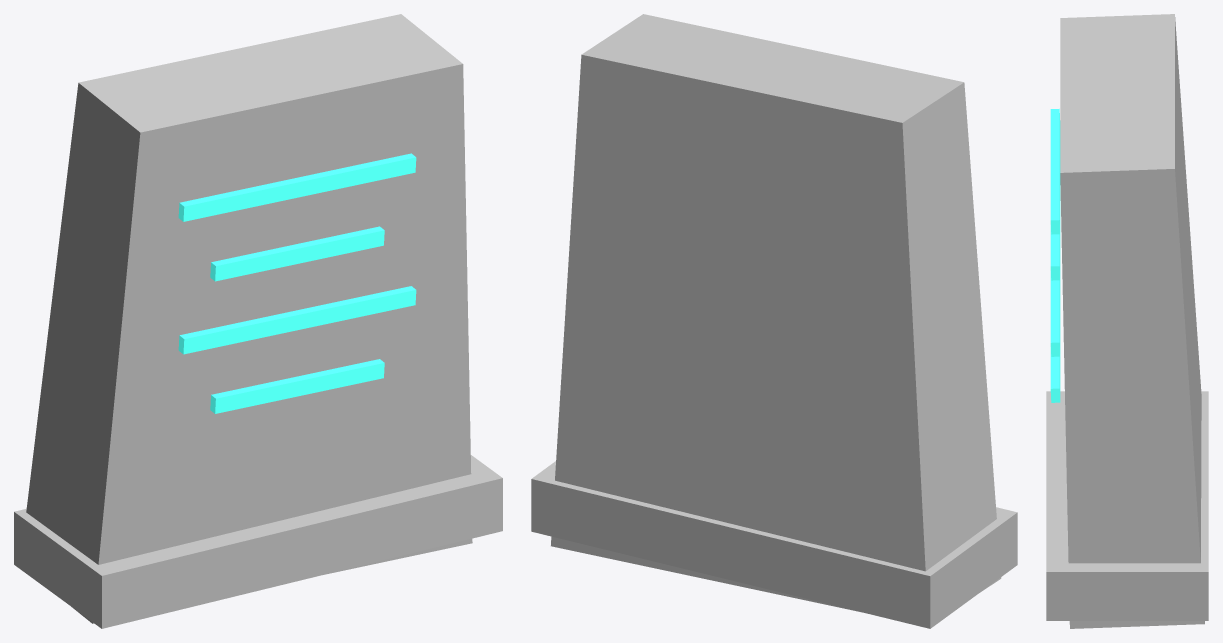
The model's file is lore_tablet.glb.
The picture shows the model from 3 angles, left to right: view 1: azimuth 30°, elevation 25°; view 2: azimuth 150°, elevation 25°; view 3: azimuth 270°, elevation 25°; orthographic projection. The views are drawn at different scales.
Parts seen in each view (by area): view 1: lore_tablet; view 2: lore_tablet; view 3: lore_tablet.
Part boxes in pixels (<box>): lore_tablet: <box>14,14,502,628</box>; lore_tablet: <box>531,14,1017,628</box>; lore_tablet: <box>1046,14,1208,628</box>.
Size of the model in its own units: 0.95 by 1.13 by 0.36.
